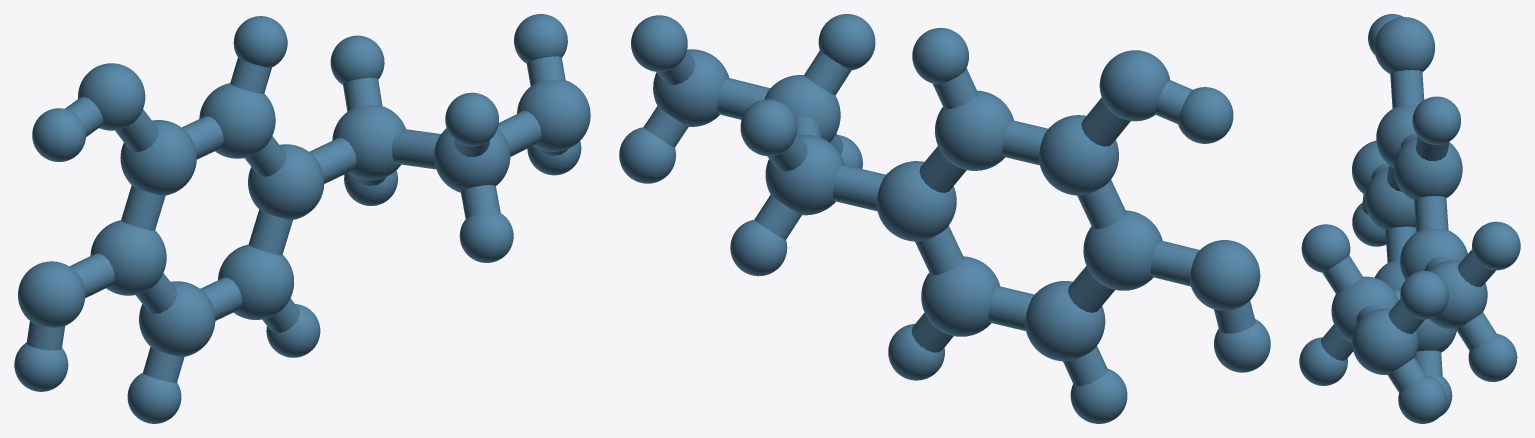
File: 681-bas-print_NIH3D.glb
3 renders of one model, left to right at view 1: azimuth 30°, elevation 25°; view 2: azimuth 150°, elevation 25°; view 3: azimuth 270°, elevation 25°, orthographic. The views are drawn at different scales.
Visible parts, largest first — view 1: atoms, bonds; view 2: atoms, bonds; view 3: atoms, bonds.
Boxes of the visible parts, left/top/right/bottom form: atoms: left=14, top=14, right=590, bottom=423; bonds: left=26, top=56, right=567, bottom=382; atoms: left=619, top=14, right=1270, bottom=423; bonds: left=643, top=50, right=1255, bottom=386; atoms: left=1299, top=14, right=1520, bottom=423; bonds: left=1321, top=70, right=1496, bottom=392.
Size of the model in its own units: 9.02 by 5.32 by 3.27.
